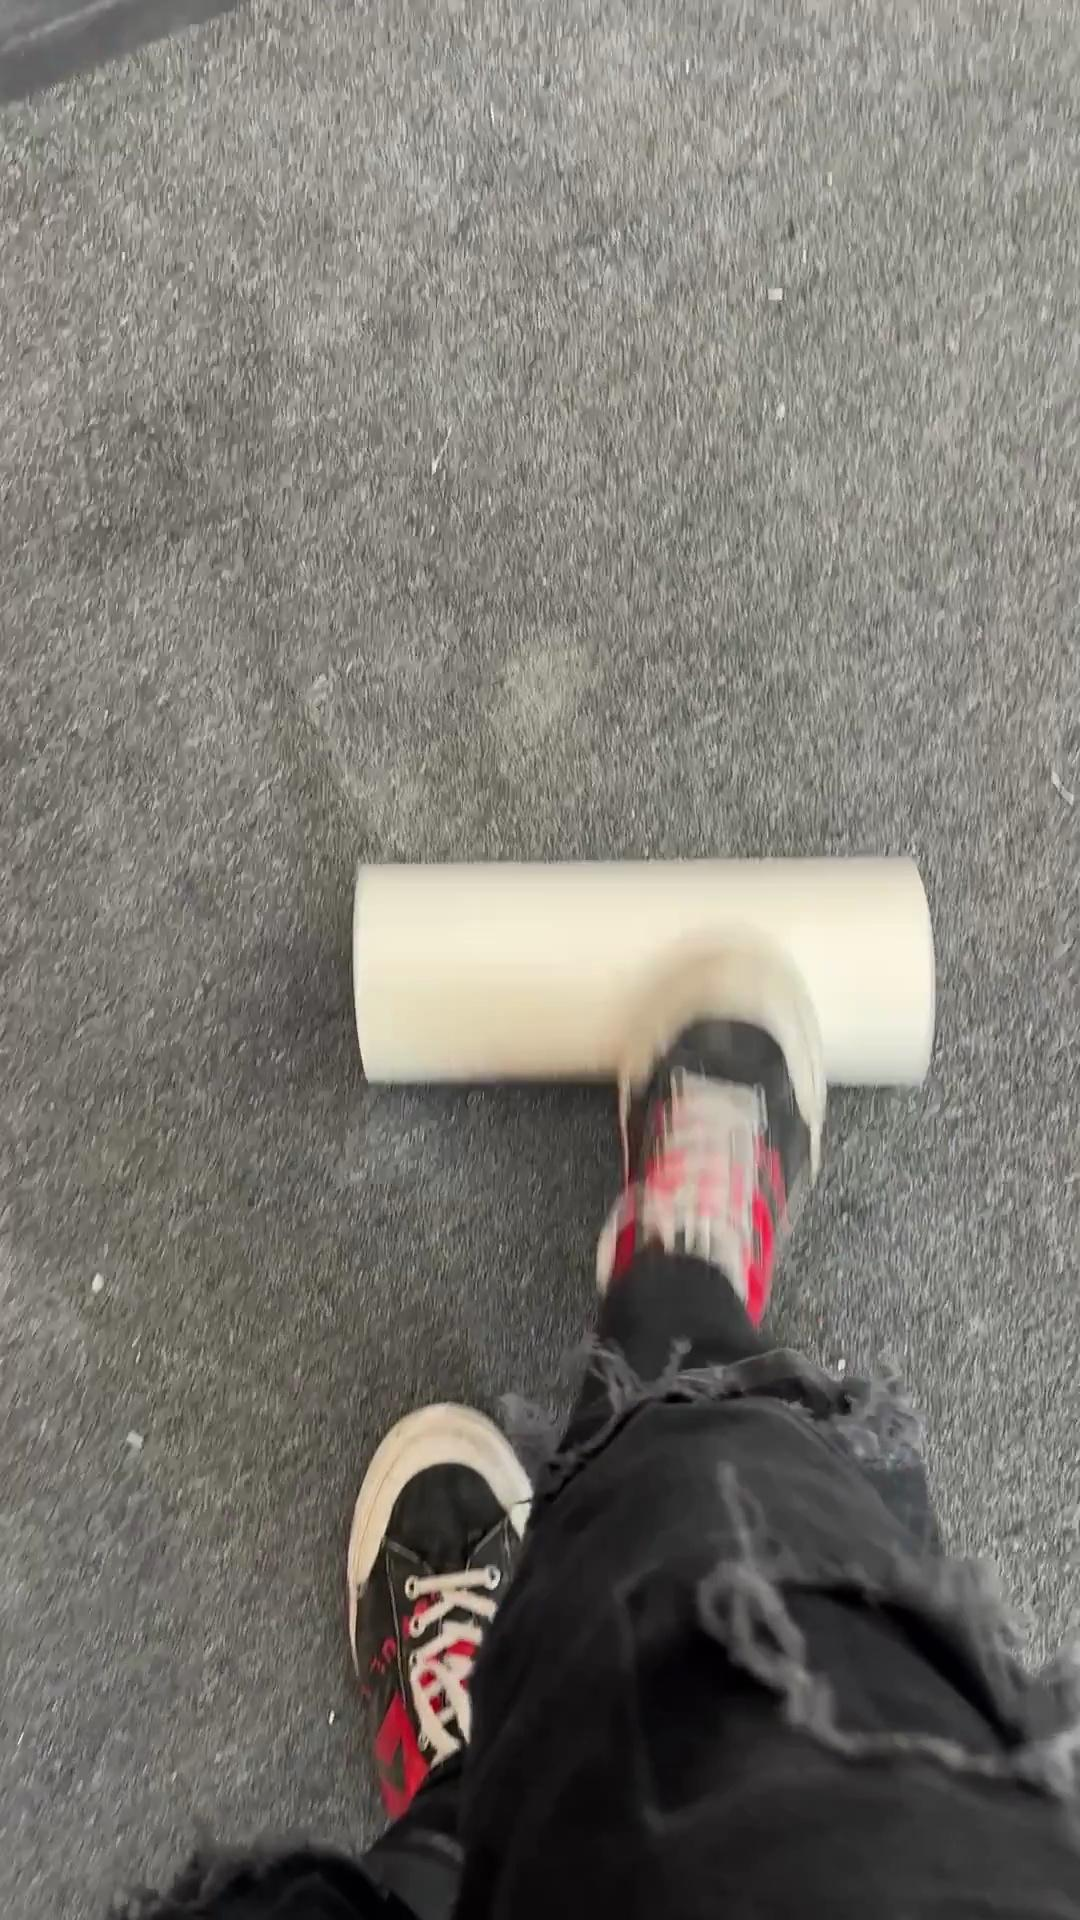CORAL: (349, 852, 938, 1095)
